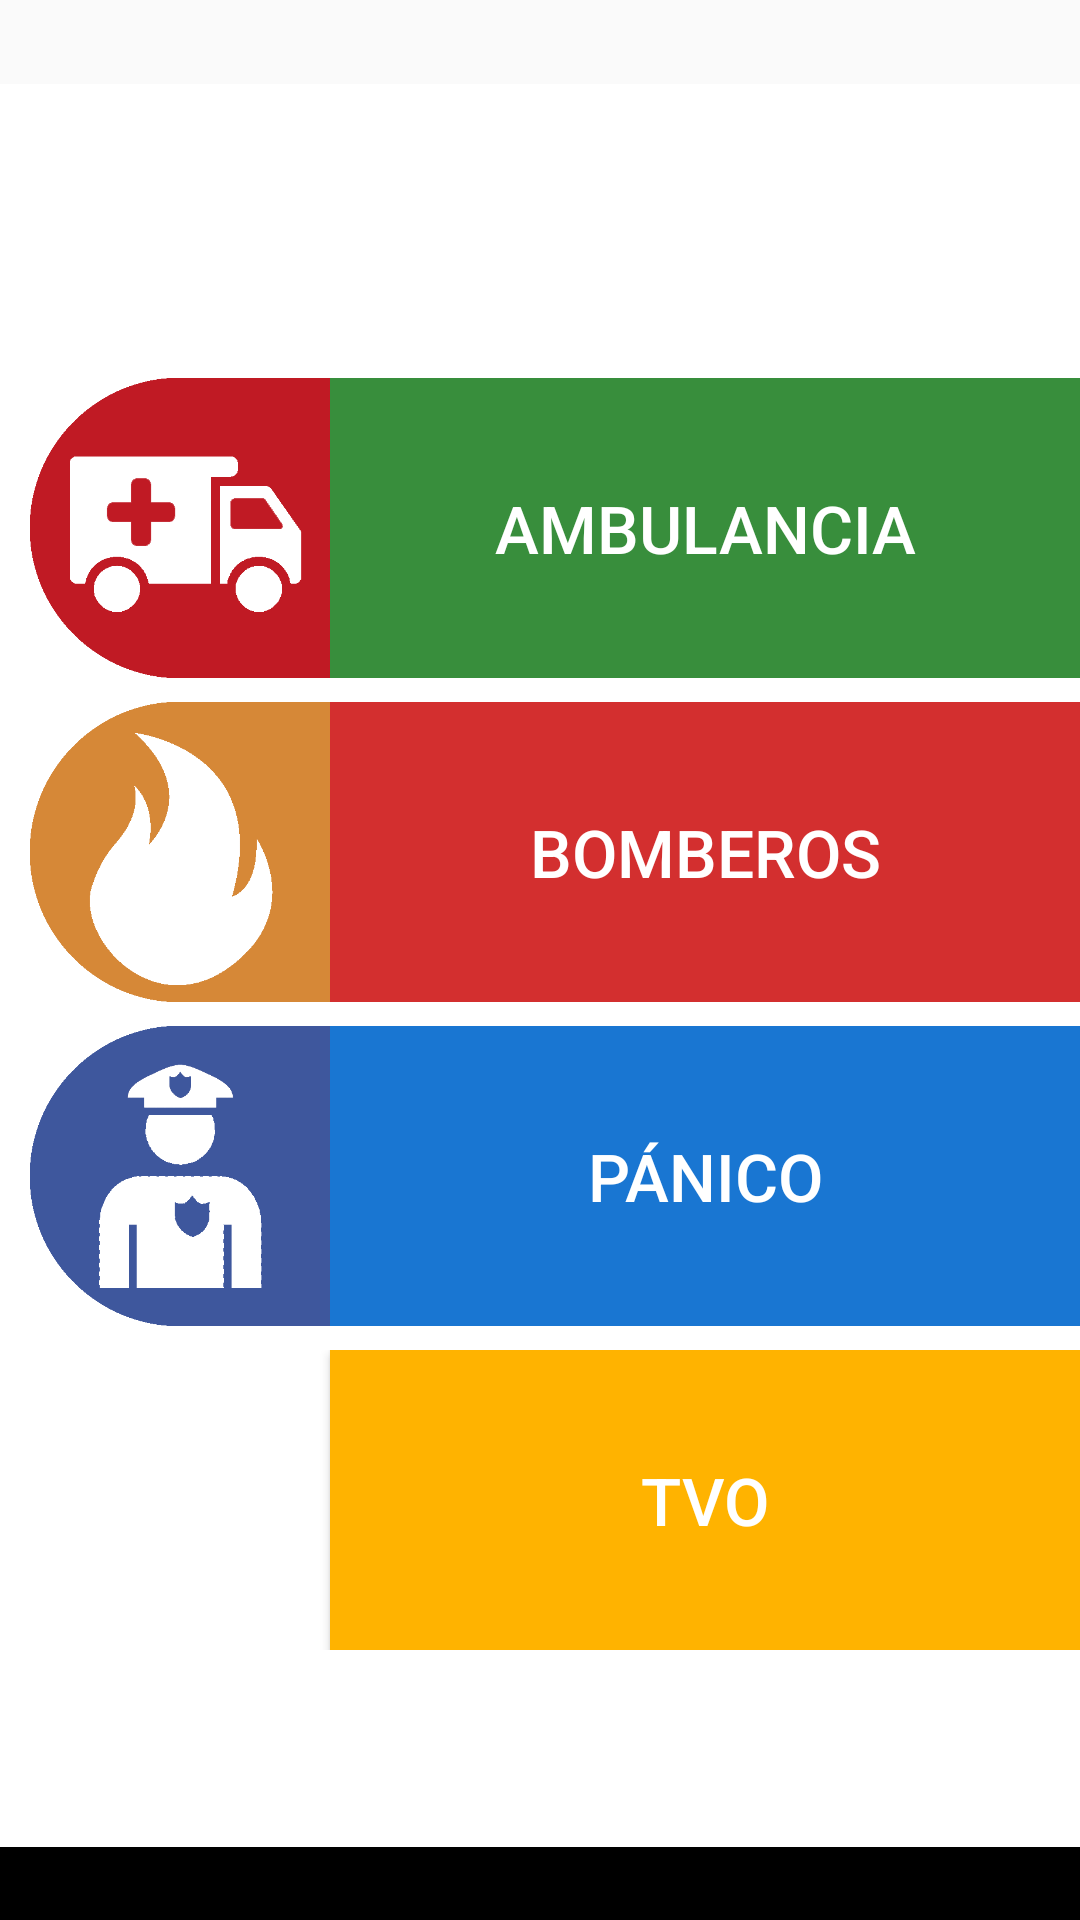

Named icons in this screenshot (1080px x 1920px) and their bounding boxes, (x1, y1, x2, y2):
ambulance: (30, 378, 330, 678)
fire: (30, 702, 330, 1002)
policeman: (30, 1026, 330, 1326)
